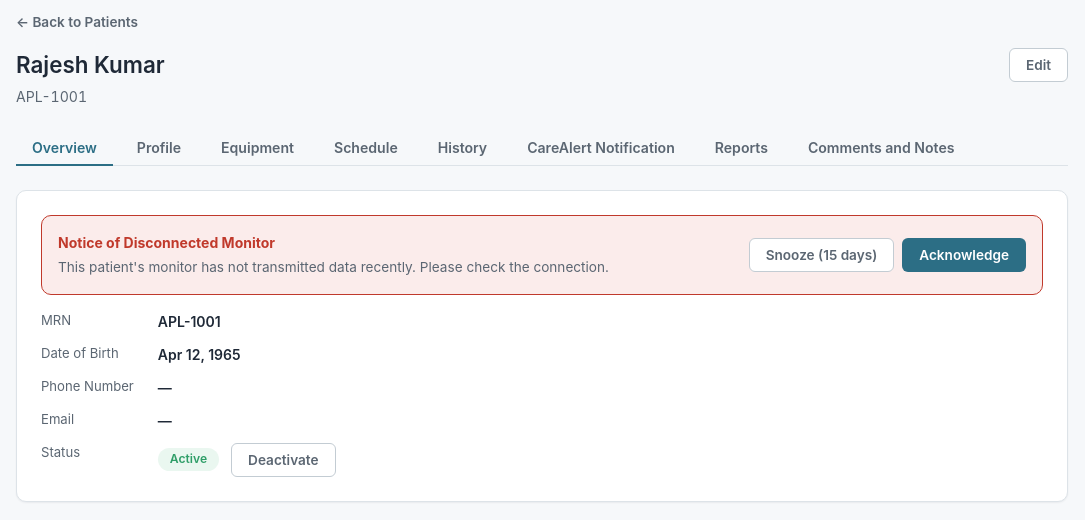
Test: PatientDetailComponent › switches to the Equipment tab and shows device fields
The image size is (1085, 520).
Click the button with class "tab" showing "Equipment". click: click(258, 149)
box: [205,131,310,166]
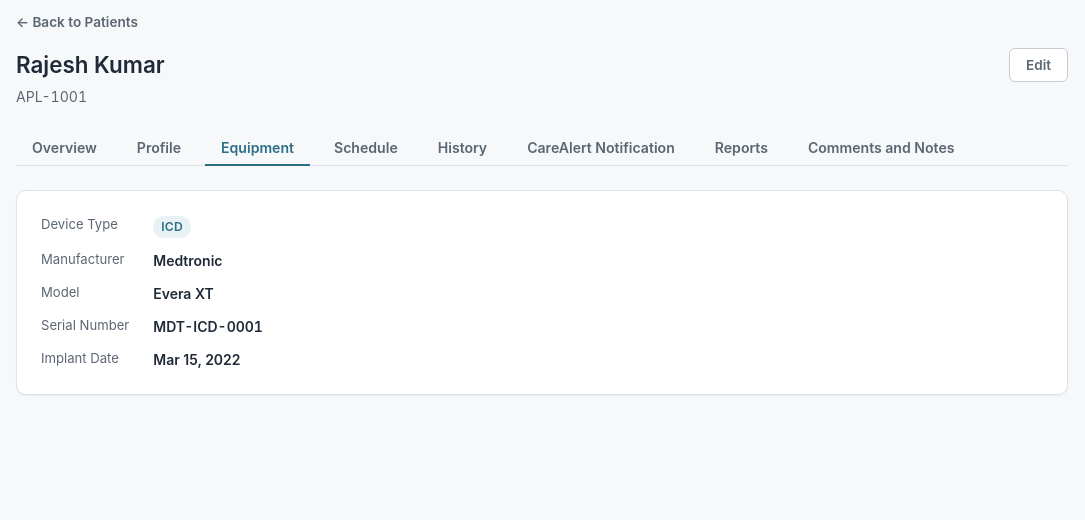
Result: the text "Medtronic" is shown at [153,252,222,269]
Result: the text "Evera XT" is shown at [153,285,214,302]
Result: the text "MDT-ICD-0001" is shown at [153,318,263,335]
